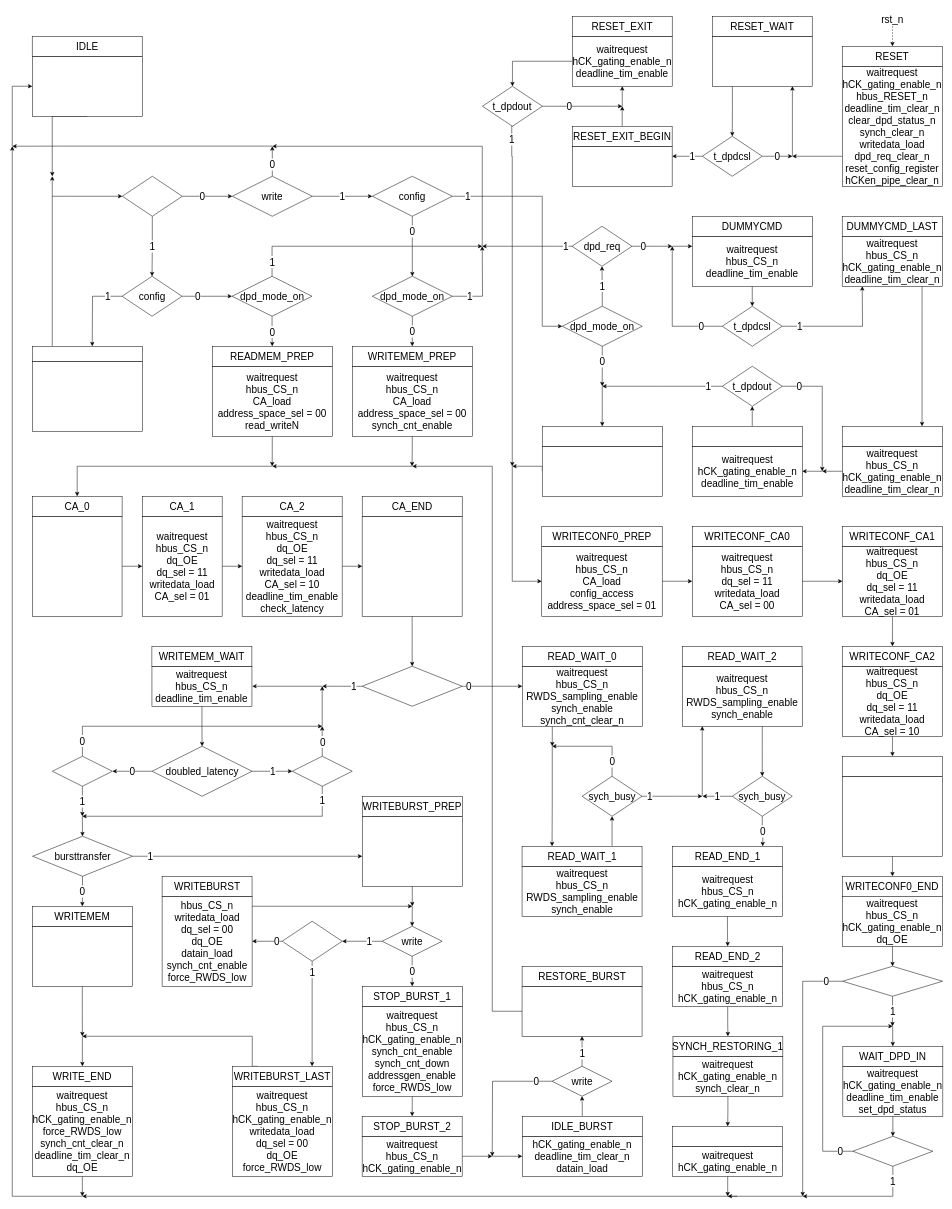
Some shapes in this 952 by 1209 pixel diagram are drawn without their labels. Here are the shapes that lost their labels. From the top down, the centre of each, then its label:
At pixel 762 61: "waitrequest hCK_gating_enable_n deadline_tim_enable hbus_RESET_n".
At pixel 87 86: "hCK_gating_enable_n deadline_tim_clear_n cmd_load datain_load".
At pixel 622 166: "waitrequest hCK_gating_enable_n deadline_tim_clear_n".
At pixel 152 196: "read".
At pixel 87 353: "READ_VIRTCONF".
At pixel 87 396: "hCK_gating_enable_n avs_out_sel force_valid cmd_load datain_load".
At pixel 602 436: "WRITE_VIRTCONF".
At pixel 747 436: "WAIT_DPD_OUT".
At pixel 892 436: "DUMMYCMD_END".
At pixel 602 471: "waitrequest hCK_gating_enable_n clear_dpd_status_n update_config_register".
At pixel 77 566: "waitrequest hbus_CS_n dq_sel = 11 writedata_load CA_sel = 00 synch_cnt_enable".
At pixel 412 566: "waitrequest hbus_CS_n dq_OE deadline_tim_enable".
At pixel 412 686: "current_operation".
At pixel 82 771: "t_acc1".
At pixel 322 771: "t_acc2".
At pixel 892 766: "WRITE CONF 0".
At pixel 892 816: "waitrequest hCK_gating_enable_n hbus_CS_n writedata_load dq_OE dq_sel = 01".
At pixel 412 851: "hbus_CS_n writedata_load dq_sel = 00 datain_load synch_cnt_enable".
At pixel 82 956: "waitrequest hCK_gating_enable_n hbus_CS_n writedata_load dq_sel = 00".
At pixel 312 941: "burst_end".
At pixel 892 981: "active_dpd_req".
At pixel 582 1011: "waitrequest hbus_CS_n CA_load address_space_sel = 11".
At pixel 727 1136: "SYNCH_RESTORING_2".
At pixel 892 1151: "t_dpdin".
